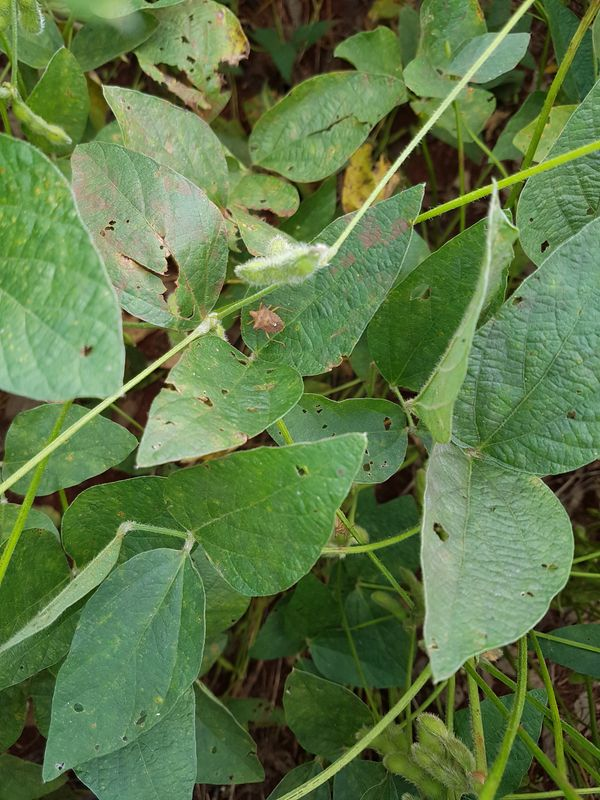Euschistus_heros_adulto: (241, 298, 300, 349)
